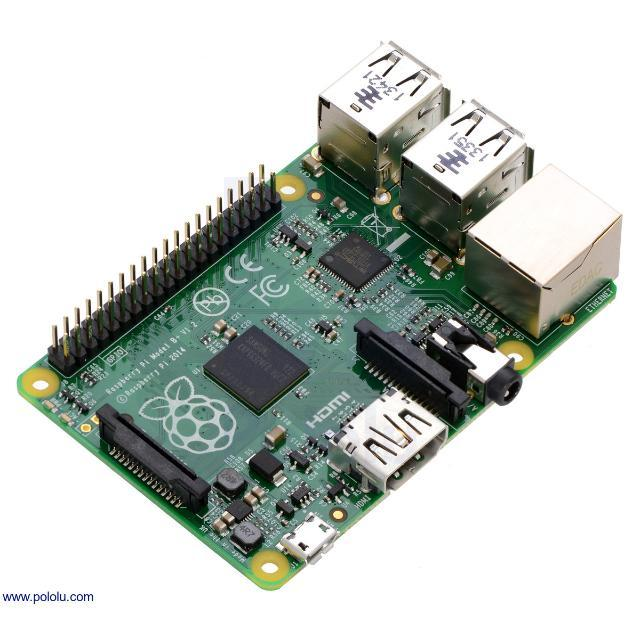Raspberry Pi 1 B-: (25, 43, 621, 584)
